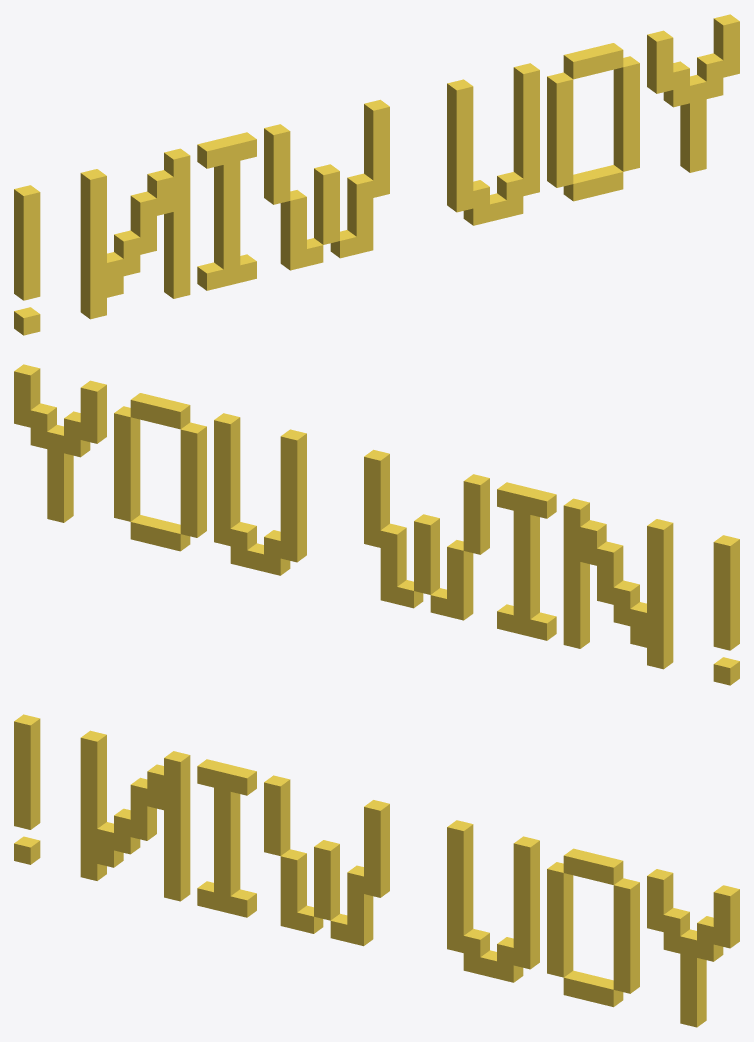
The model's file is youwin.fbx.
The picture shows the model from 3 angles, top to bottom: view 1: azimuth 30°, elevation 25°; view 2: azimuth 150°, elevation 25°; view 3: azimuth 330°, elevation 25°; orthographic projection.
Parts seen in each view (by area): view 1: generated; view 2: generated; view 3: generated.
Part boxes in pixels (x1,y1,x2,y2): generated: (14, 14, 739, 335); generated: (14, 364, 739, 685); generated: (14, 714, 739, 1027).
Bounding box in the file's own units: 430 × 80 × 10.
